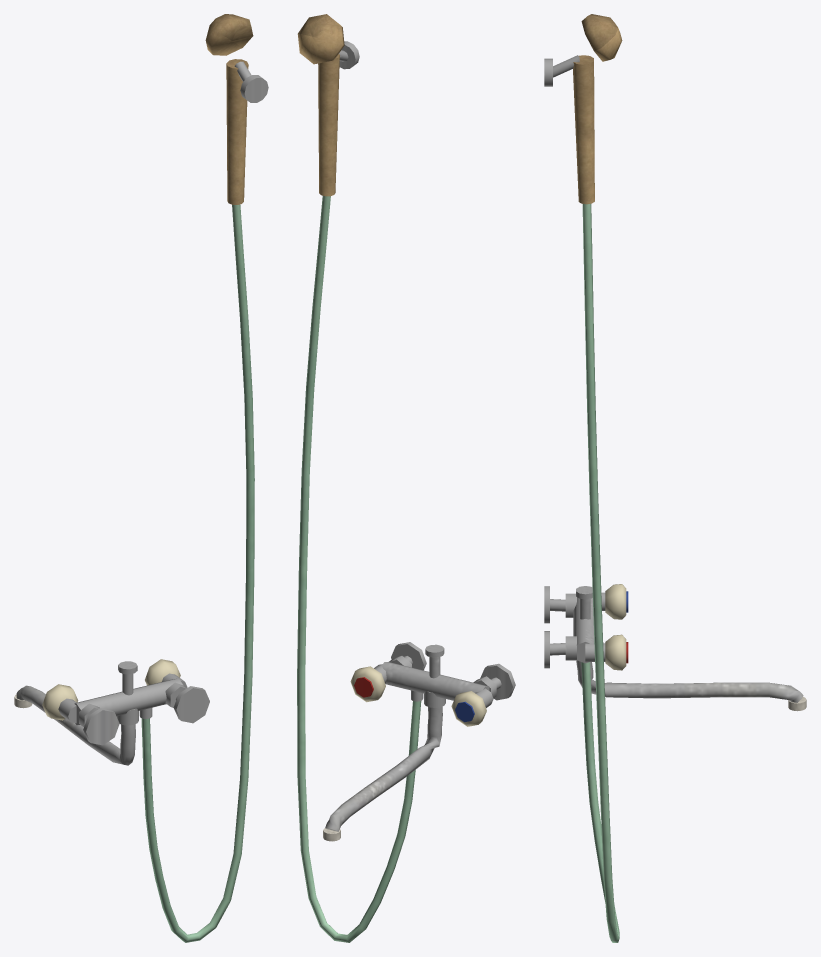
Rendered from faucet_bath_shower_lod1_web.glb.
3 renders of one model, left to right at view 1: azimuth 30°, elevation 25°; view 2: azimuth 150°, elevation 25°; view 3: azimuth 270°, elevation 25°, orthographic. The views are drawn at different scales.
Visible parts, largest first — view 1: Chrome_Shower, Chrome_FaucetBath, Chrome_Spout; view 2: Chrome_Shower, Chrome_FaucetBath, Chrome_Spout; view 3: Chrome_Shower, Chrome_FaucetBath, Chrome_Spout.
Boxes of the visible parts, x1,y1,x2,y2 form: Chrome_Shower: (141,14,268,942); Chrome_FaucetBath: (42,659,209,745); Chrome_Spout: (14,685,138,765); Chrome_Shower: (297,14,421,942); Chrome_FaucetBath: (350,642,515,726); Chrome_Spout: (323,691,445,841); Chrome_Shower: (544,14,622,942); Chrome_FaucetBath: (544,584,628,670); Chrome_Spout: (576,660,806,711).
Bounding box in the file's own units: 0.33 × 1.47 × 0.371.
7 materials, 7 textured.
